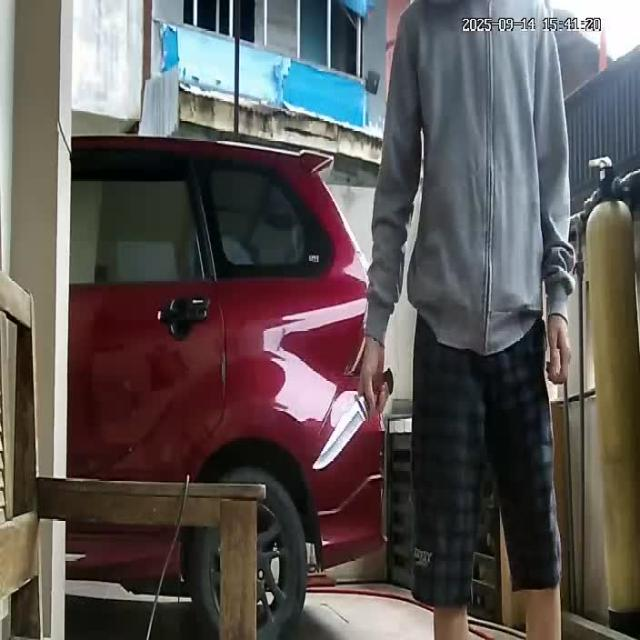senjata_tajam: (309, 395, 370, 473)
